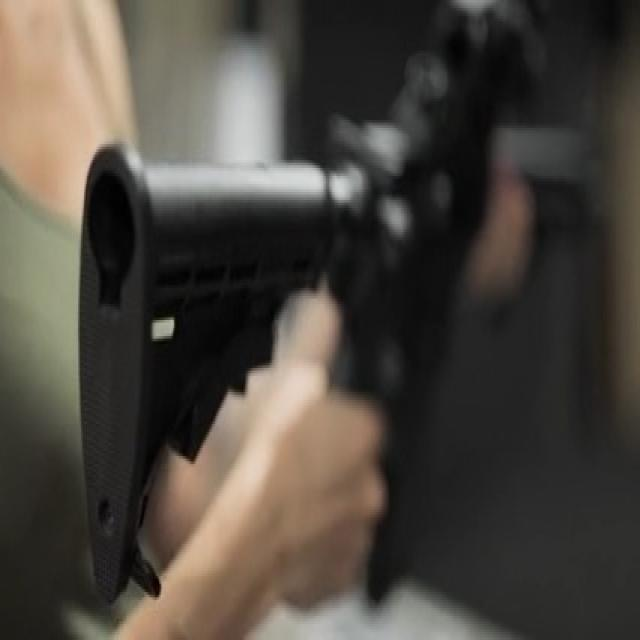Gun_Holder: (68, 0, 640, 597)
